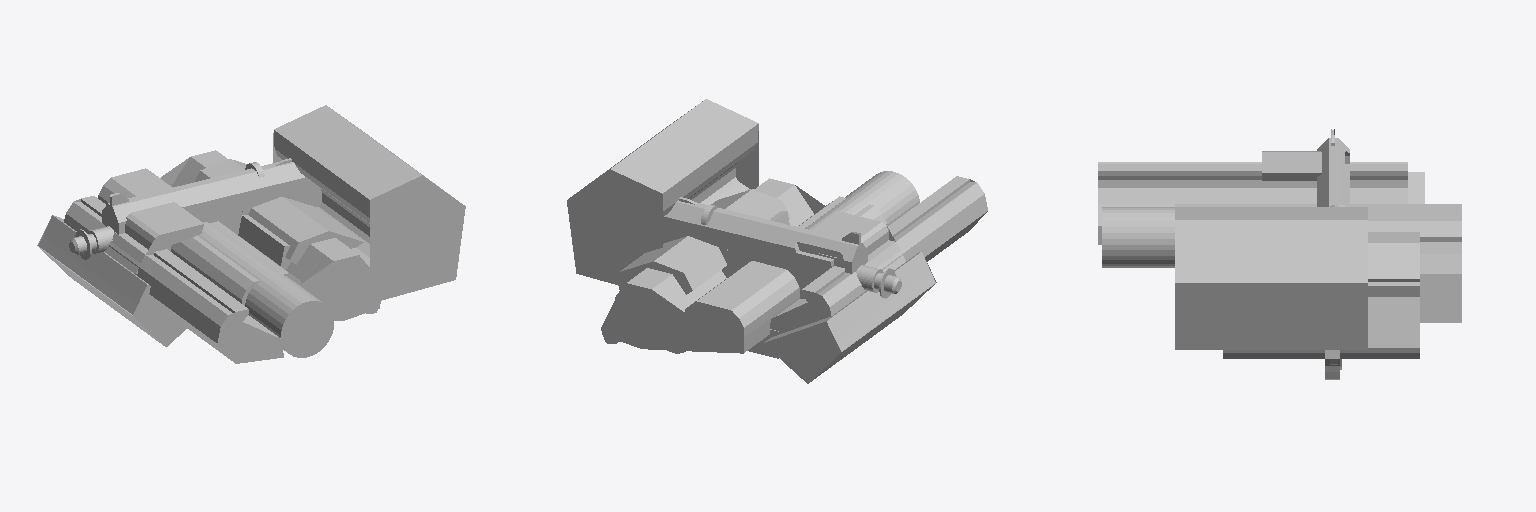
The model's file is blaster.obj.
The picture shows the model from 3 angles: view 1: azimuth 30°, elevation 25°; view 2: azimuth 150°, elevation 25°; view 3: azimuth 270°, elevation 25°; orthographic projection.
Parts seen in each view (by area): view 1: Cutter.002, Cutter.001, Cutter.005, Cube.014_Cube.009, Cutter.012, Cutter, Cutter.006, Cutter.014, Cutter.007, Cylinder_Cylinder.004; view 2: Cutter.002, Cutter.001, Cube.014_Cube.009, Cutter.005, Cutter, Cutter.006, Cutter.012, Cutter.014, Cylinder_Cylinder.004; view 3: Cutter.002, Cutter.005, Cutter.006, Cutter.001, Cutter.012, Cube.014_Cube.009, Cutter.014, Cutter.
Part boxes in pixels (left/top/right/bottom): Cutter.002: left=273, top=105, right=465, bottom=301; Cutter.001: left=98, top=150, right=379, bottom=320; Cutter.005: left=64, top=196, right=283, bottom=363; Cube.014_Cube.009: left=102, top=162, right=321, bottom=251; Cutter.012: left=197, top=222, right=333, bottom=357; Cutter: left=37, top=215, right=186, bottom=346; Cutter.006: left=195, top=159, right=380, bottom=313; Cutter.014: left=104, top=202, right=203, bottom=273; Cutter.007: left=238, top=215, right=291, bottom=269; Cylinder_Cylinder.004: left=69, top=226, right=113, bottom=259; Cutter.002: left=567, top=99, right=758, bottom=285; Cutter.001: left=605, top=178, right=886, bottom=353; Cube.014_Cube.009: left=663, top=200, right=867, bottom=298; Cutter.005: left=770, top=176, right=987, bottom=333; Cutter: left=763, top=252, right=936, bottom=383; Cutter.006: left=601, top=189, right=790, bottom=343; Cutter.012: left=805, top=171, right=919, bottom=229; Cutter.014: left=812, top=211, right=905, bottom=271; Cylinder_Cylinder.004: left=856, top=265, right=901, bottom=298; Cutter.002: left=1175, top=207, right=1367, bottom=349; Cutter.005: left=1098, top=162, right=1407, bottom=244; Cutter.006: left=1223, top=232, right=1419, bottom=358; Cutter.001: left=1175, top=204, right=1461, bottom=322; Cutter.012: left=1102, top=207, right=1174, bottom=267; Cube.014_Cube.009: left=1317, top=138, right=1349, bottom=206; Cutter.014: left=1262, top=151, right=1321, bottom=180; Cutter: left=1408, top=172, right=1424, bottom=203.
Size of the model in its own units: 5.03 by 2.78 by 5.02.